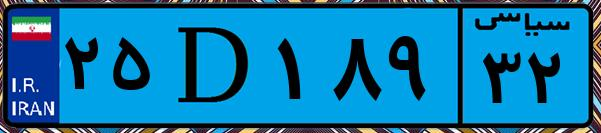1: (270, 28, 330, 110)
2: (57, 26, 110, 100), (525, 38, 570, 115)
3: (475, 38, 525, 113)
5: (110, 28, 158, 98)
8: (330, 28, 385, 110)
9: (385, 28, 445, 110)
D: (158, 12, 270, 120)
